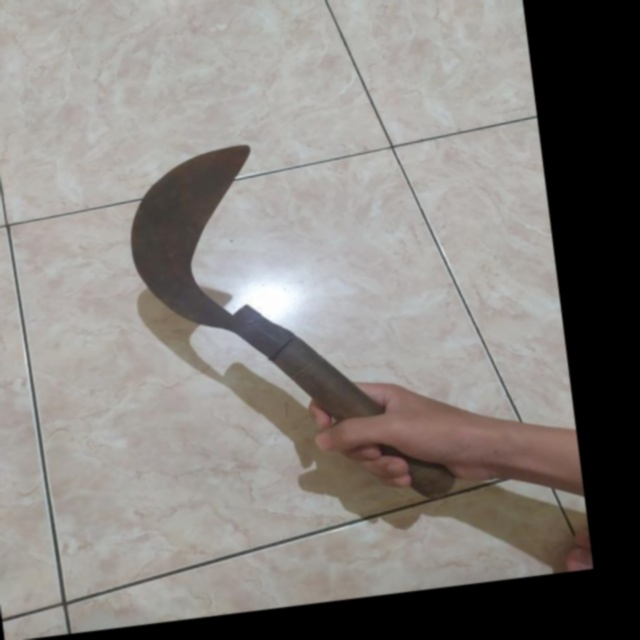Sharp-Object: (107, 94, 477, 556)
